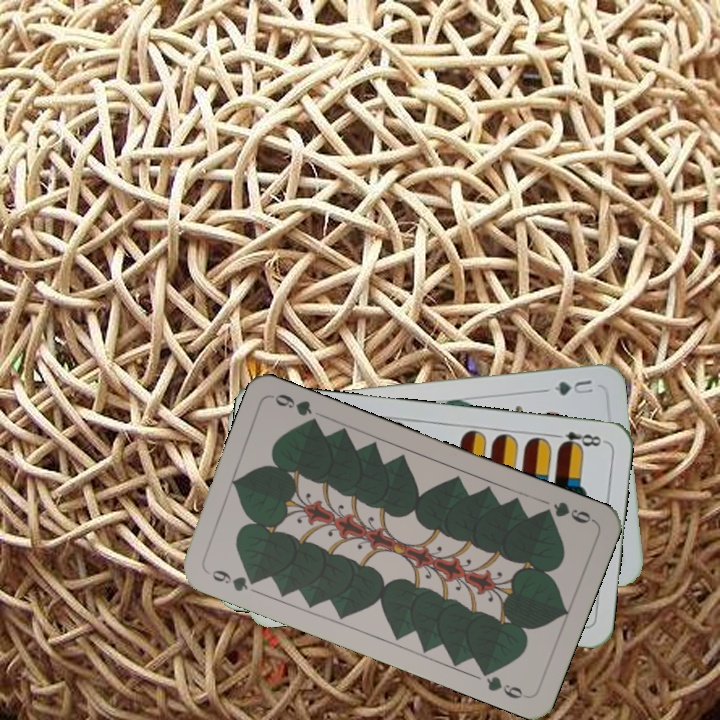E8: (548, 427, 604, 452)
G9: (537, 497, 597, 526), (202, 566, 262, 594)
GU: (550, 375, 596, 399)
